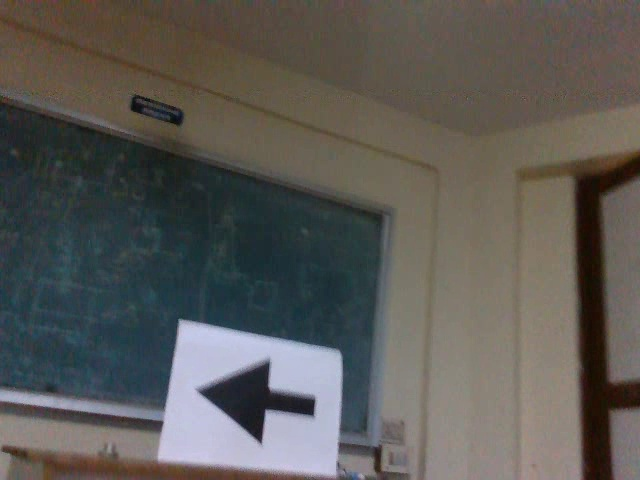Left: (193, 351, 322, 447)
